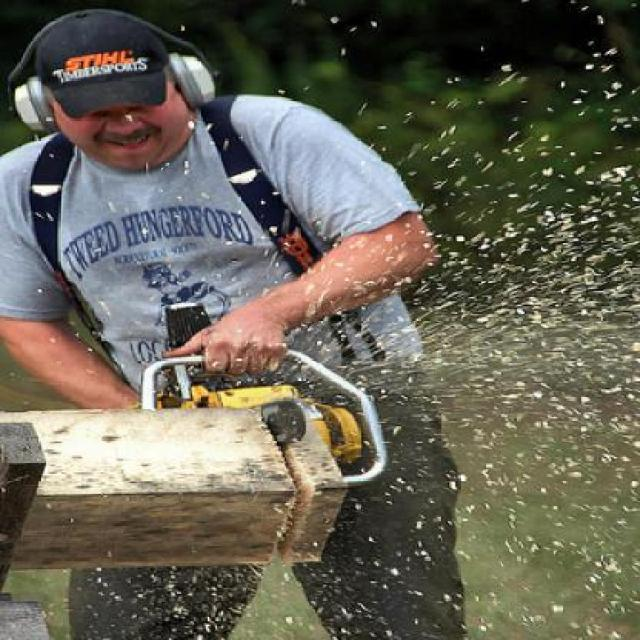Chainsaw: (123, 337, 392, 486)
